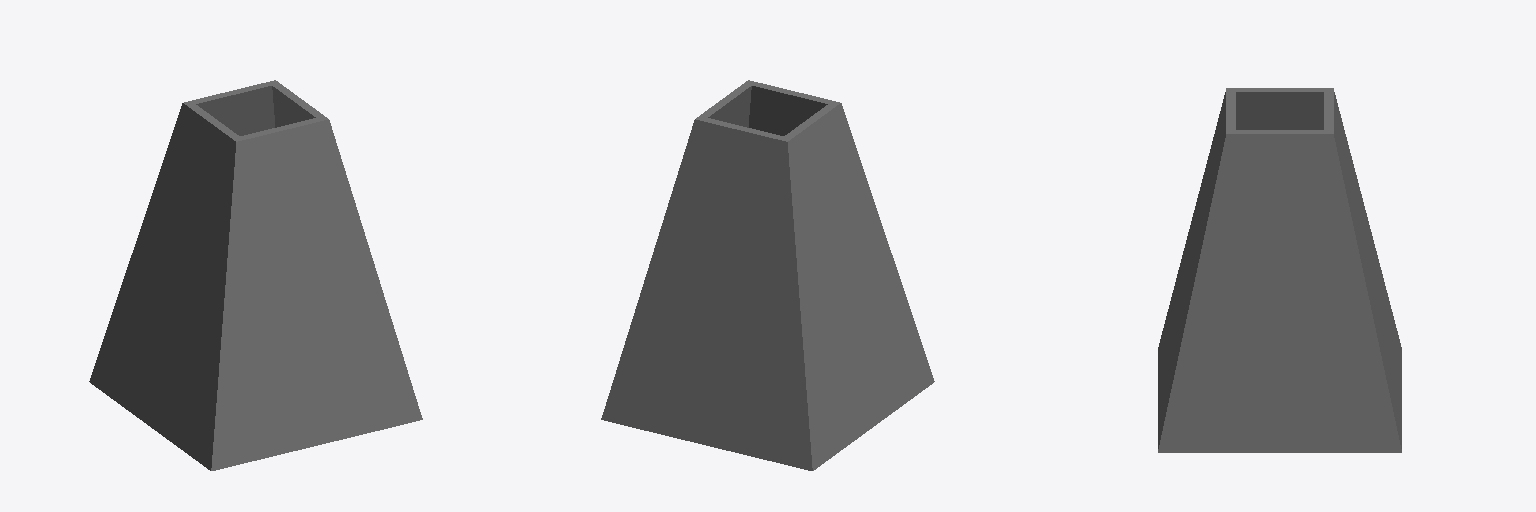
Rendered from lamp_lampShade_1.obj.
3 renders of one model, left to right at view 1: azimuth 30°, elevation 25°; view 2: azimuth 150°, elevation 25°; view 3: azimuth 270°, elevation 25°, orthographic.
Size of the model in its own units: 1.6 by 2.09 by 1.6.